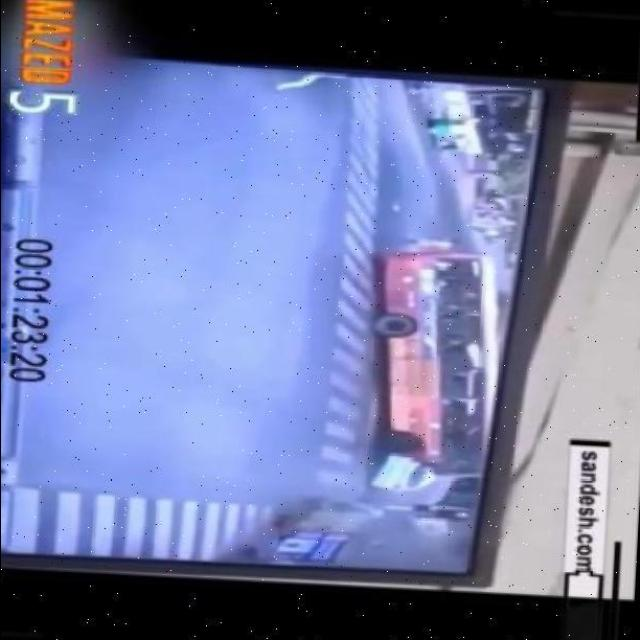accident: (363, 242, 509, 504)
